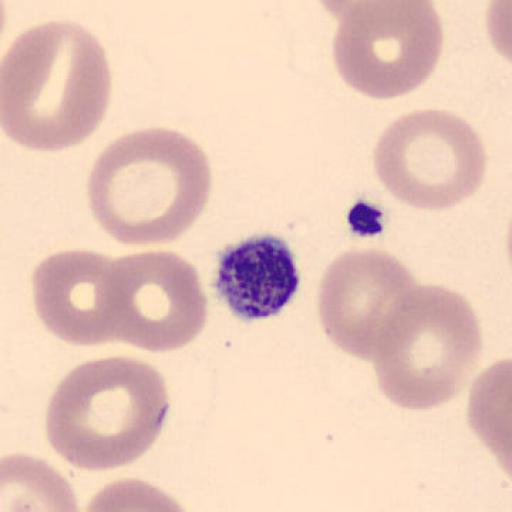Platelet: (208, 230, 305, 321), (342, 195, 392, 241)
RBC: (86, 126, 214, 248), (0, 18, 112, 154), (44, 353, 171, 472), (370, 283, 484, 412), (370, 106, 488, 213), (316, 247, 421, 362), (99, 248, 208, 354), (330, 0, 444, 100), (30, 247, 128, 348), (466, 356, 512, 485), (318, 0, 430, 44), (2, 451, 80, 512), (83, 475, 203, 512), (316, 0, 432, 28), (316, 0, 412, 24), (483, 0, 512, 65), (315, 0, 386, 23)
